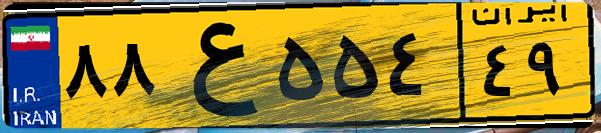4: (385, 28, 445, 110), (475, 38, 525, 113)
5: (270, 28, 330, 110), (330, 28, 385, 110)
8: (57, 26, 110, 100), (110, 28, 158, 98)
9: (525, 38, 570, 115)
ع: (158, 12, 270, 120)
